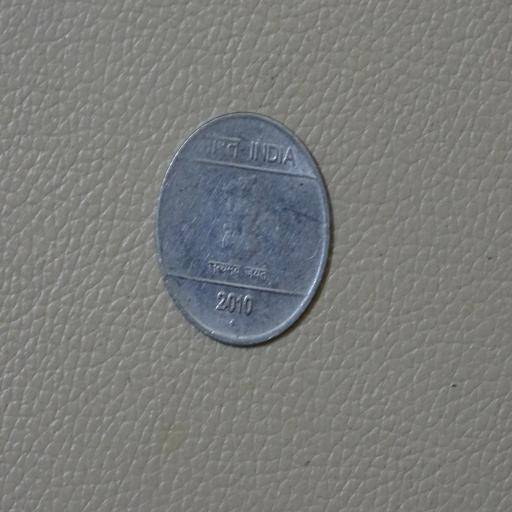rupee2: (151, 112, 333, 346)
